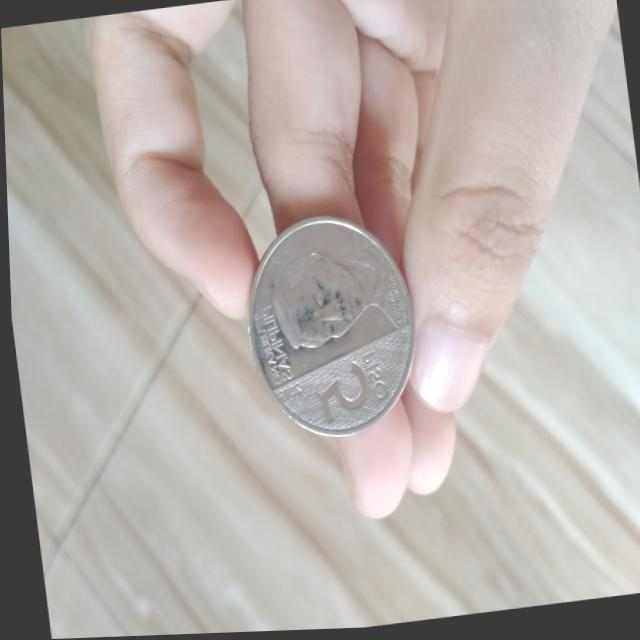5_New_Front: (304, 345, 396, 438)
